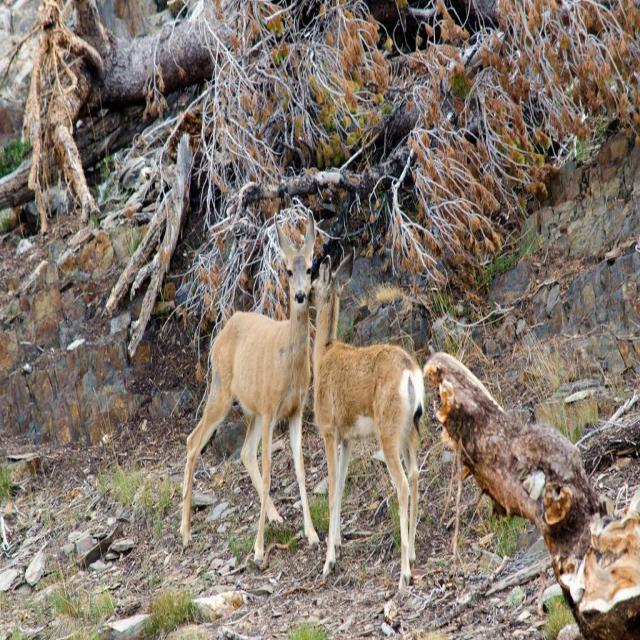Deer: (180, 202, 322, 570), (306, 239, 426, 592)
